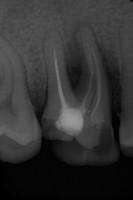Dental Caries: (65, 20, 91, 91), (97, 45, 122, 110)
